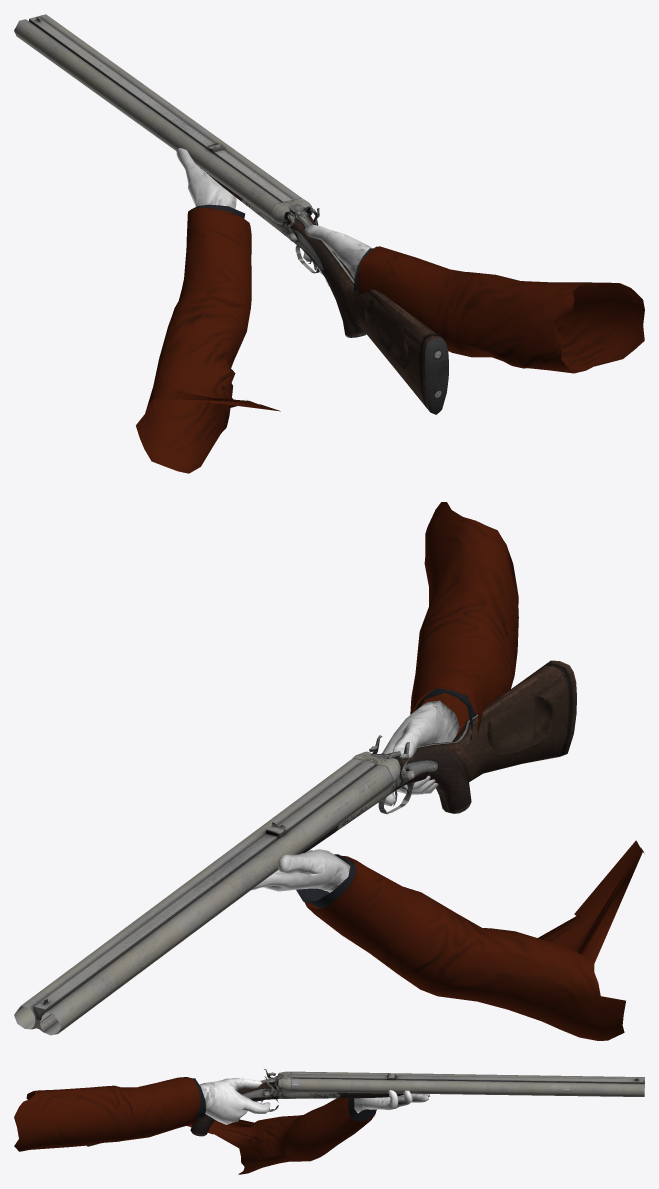
File: frame_19.obj
The picture shows the model from 3 angles, top to bottom: view 1: azimuth 30°, elevation 25°; view 2: azimuth 150°, elevation 25°; view 3: azimuth 270°, elevation 25°; orthographic projection. The views are drawn at different scales.
Visible parts, largest first — view 1: PlayerModelMerged.001_PlayerModelMerged, double_-_barreled_shotgun_L_double_-_barreled_shotgun_LP_к.001; view 2: PlayerModelMerged.001_PlayerModelMerged, double_-_barreled_shotgun_L_double_-_barreled_shotgun_LP_к.001; view 3: PlayerModelMerged.001_PlayerModelMerged, double_-_barreled_shotgun_L_double_-_barreled_shotgun_LP_к.001.
Part boxes in pixels (x1,y1,x2,y2): PlayerModelMerged.001_PlayerModelMerged: (136, 147, 644, 473); double_-_barreled_shotgun_L_double_-_barreled_shotgun_LP_к.001: (14, 14, 448, 414); PlayerModelMerged.001_PlayerModelMerged: (251, 502, 644, 1040); double_-_barreled_shotgun_L_double_-_barreled_shotgun_LP_к.001: (14, 660, 576, 1035); PlayerModelMerged.001_PlayerModelMerged: (14, 1077, 429, 1174); double_-_barreled_shotgun_L_double_-_barreled_shotgun_LP_к.001: (87, 1069, 644, 1146).
Size of the model in its own units: 0.8331 by 0.5719 by 2.
